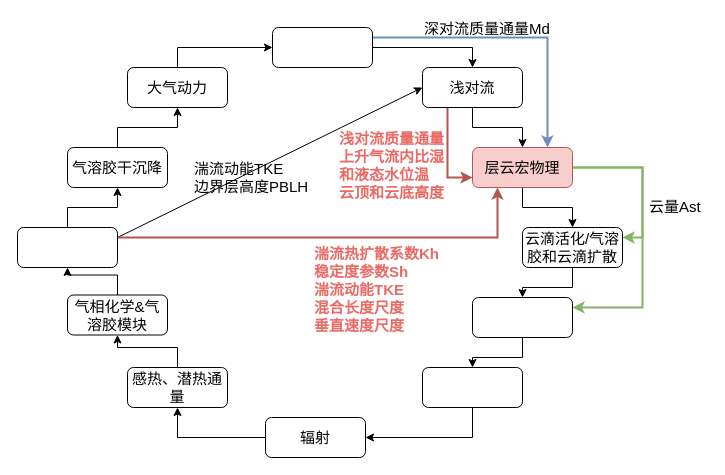
Image size: 725x475. Some labels were removed from this diagram. Here are the shapes that lost their labels. From the top down, the centre of each, then its label:
At (322,47): "深对流".
At (67,247): "湿湍流方案".
At (522,317): "层云微物理".
At (472,387): "气溶胶湿沉降".
